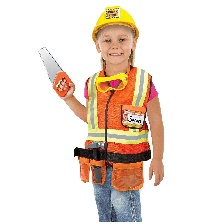helmet: (90, 7, 141, 47)
person: (78, 4, 161, 224)
vest: (84, 67, 150, 192)
